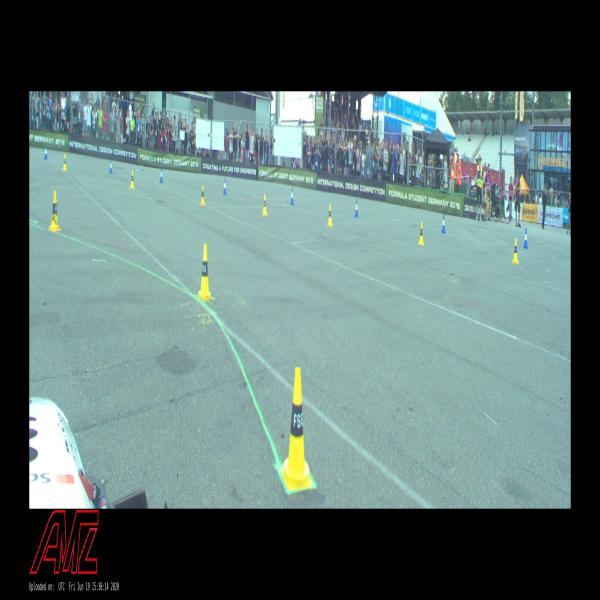blue_cone: (523, 228, 528, 248), (290, 187, 294, 204), (223, 178, 227, 194), (442, 214, 445, 233), (44, 146, 48, 159), (355, 199, 358, 216), (160, 168, 163, 183), (109, 160, 112, 173)
yellow_cone: (281, 368, 312, 490), (196, 244, 213, 300), (48, 192, 60, 231), (512, 238, 518, 264), (418, 222, 424, 245), (200, 186, 205, 205), (263, 194, 267, 216), (328, 204, 332, 226), (130, 171, 134, 188), (63, 154, 67, 170)
